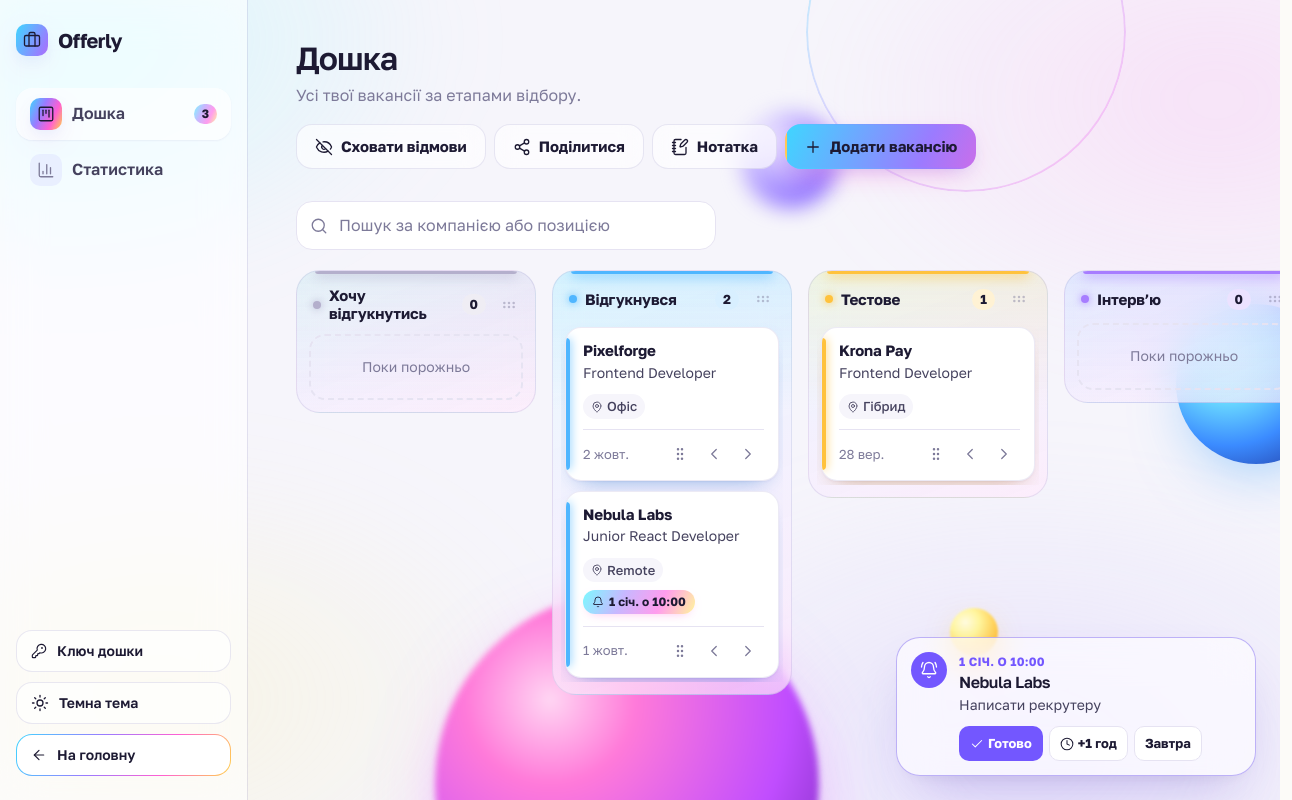
it: Дошка (інтеграційно: увесь застосунок) › нагадування, що настало, з’являється на сторінці, а «Готово» його прибирає
The width and height of the screenshot is (1292, 800).
Check: the heading "Дошка" is shown, box [296,39,397,77]
Check: the text "Написати рекрутеру" is shown, box [959,696,1101,713]
Click the button "Готово" at [1001, 744], box [959,726,1043,761]
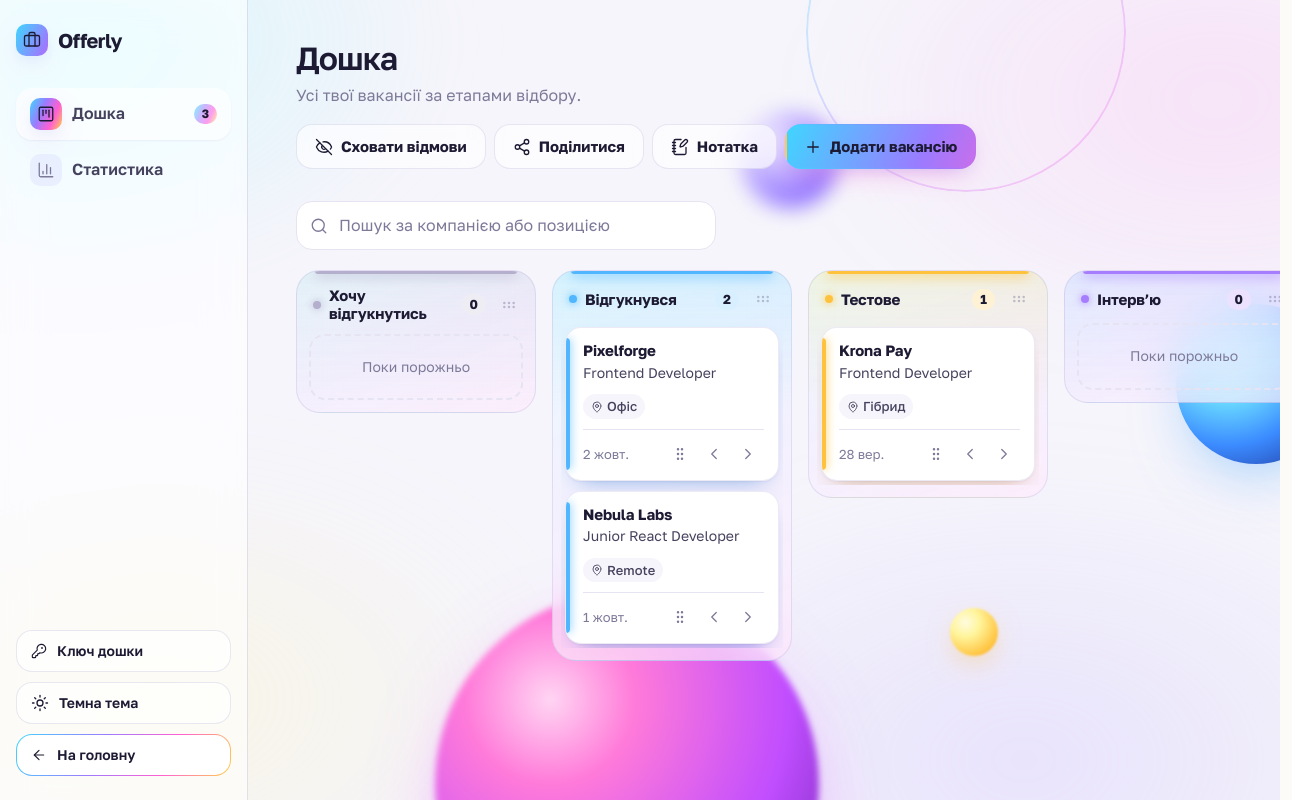
Check: the element "Нагадування" is gone
